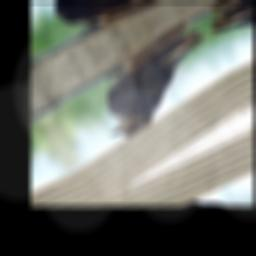Swallow: (79, 16, 230, 146)
